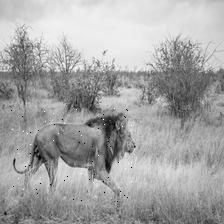Lion: (9, 109, 136, 204)
